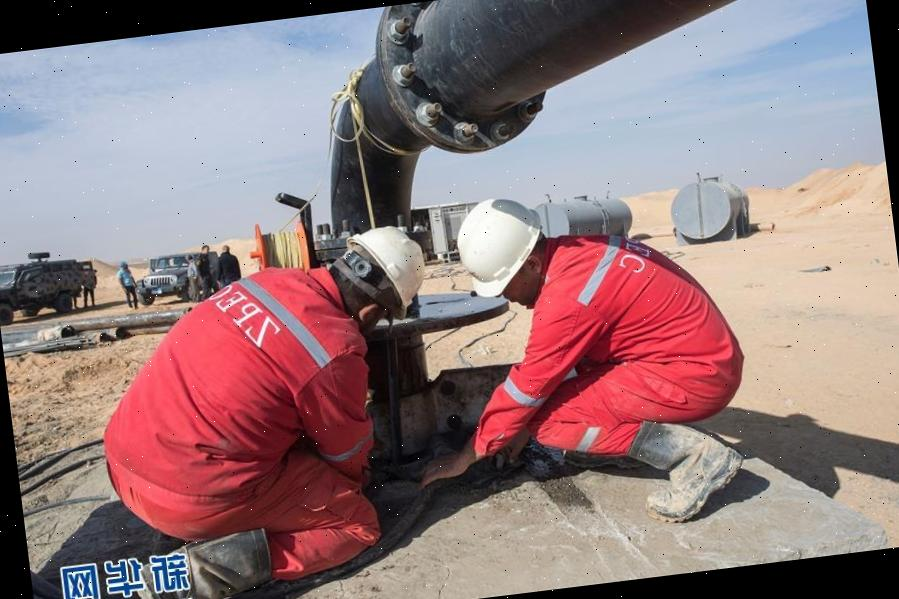helmet: (450, 192, 547, 307), (348, 213, 433, 331)
wear: (104, 267, 378, 514), (548, 226, 736, 426)
